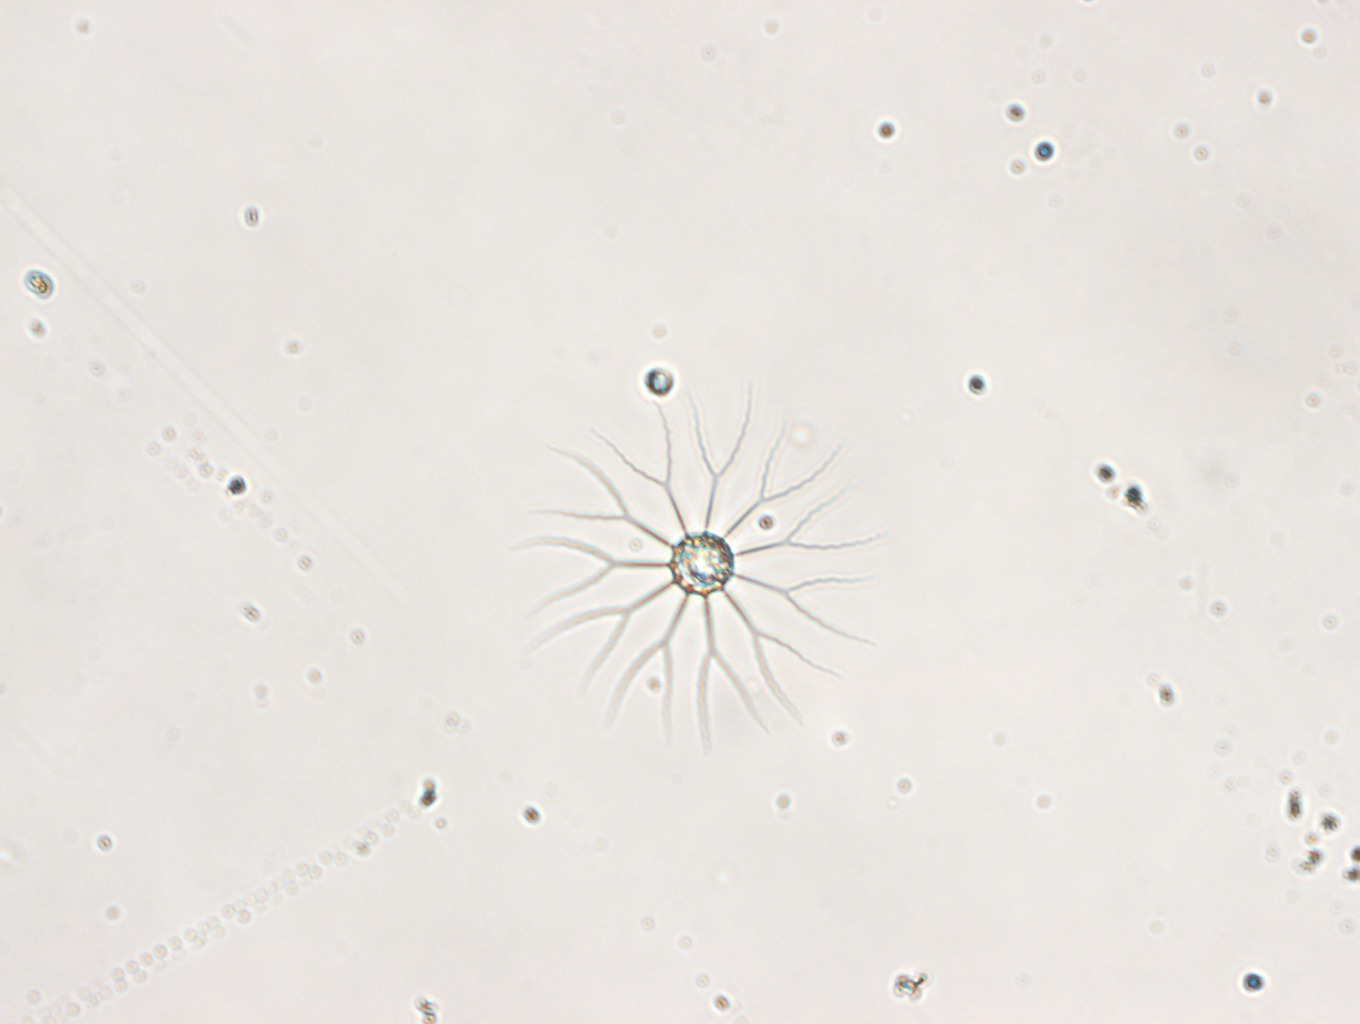bacteriastrum: (518, 392, 885, 753)
